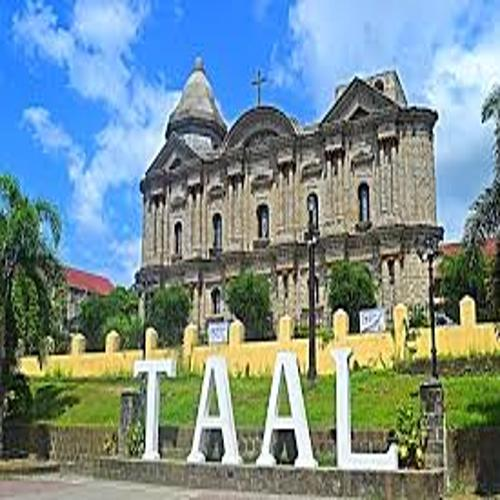Taal Basilica Church: (133, 43, 447, 340)
